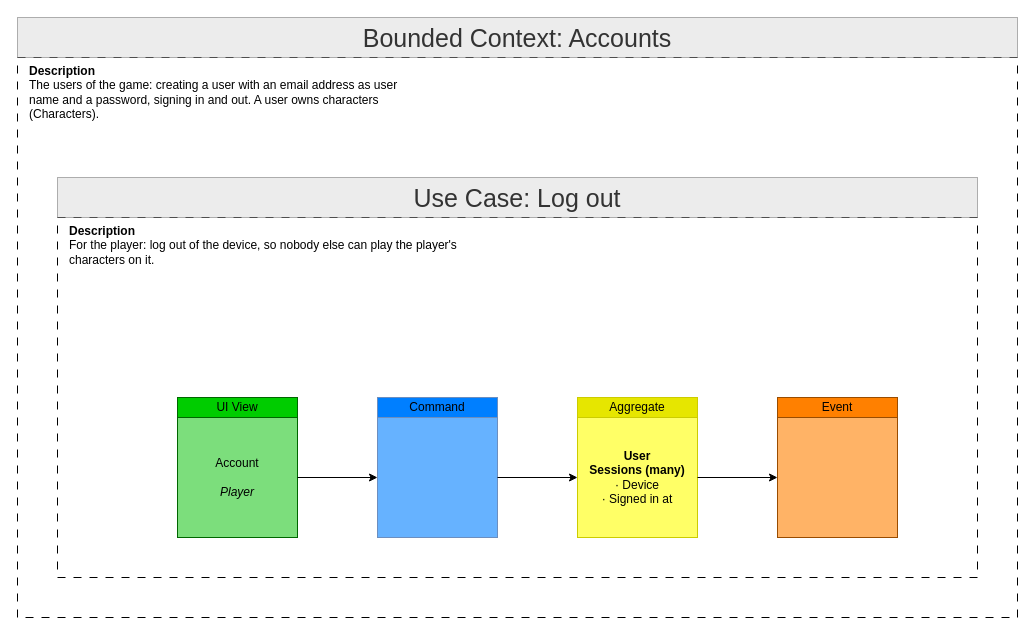
The diagram is 1035 pixels wide and 635 high, and some of its shapes have lost their labels. The box of each missing label's shape, as (x1, y1, x2, y2) in pixels:
Log out: (376, 416, 498, 538)
User logged out: (776, 416, 898, 538)
